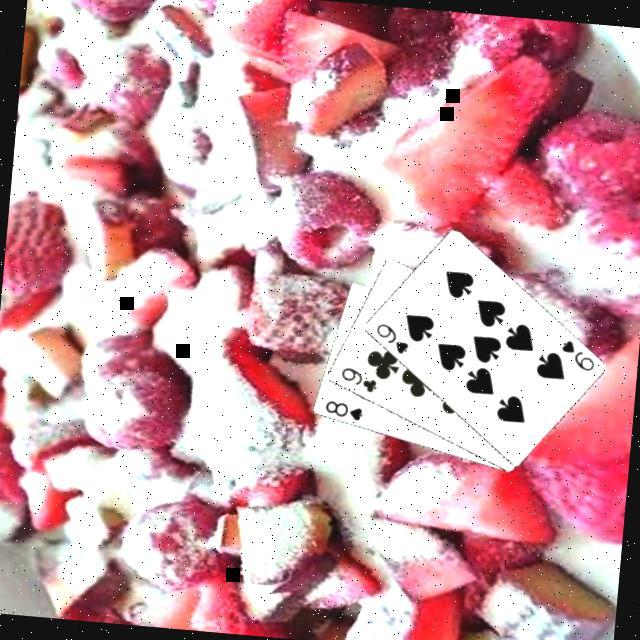8S: (320, 397, 366, 425)
9C: (334, 364, 380, 396)
9S: (369, 320, 412, 358), (555, 338, 598, 376)
